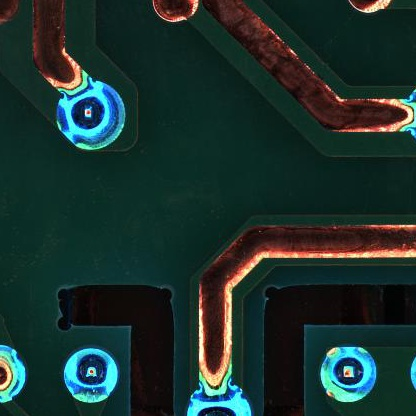spot: (55, 80, 127, 151), (62, 346, 120, 403), (321, 345, 378, 403)
